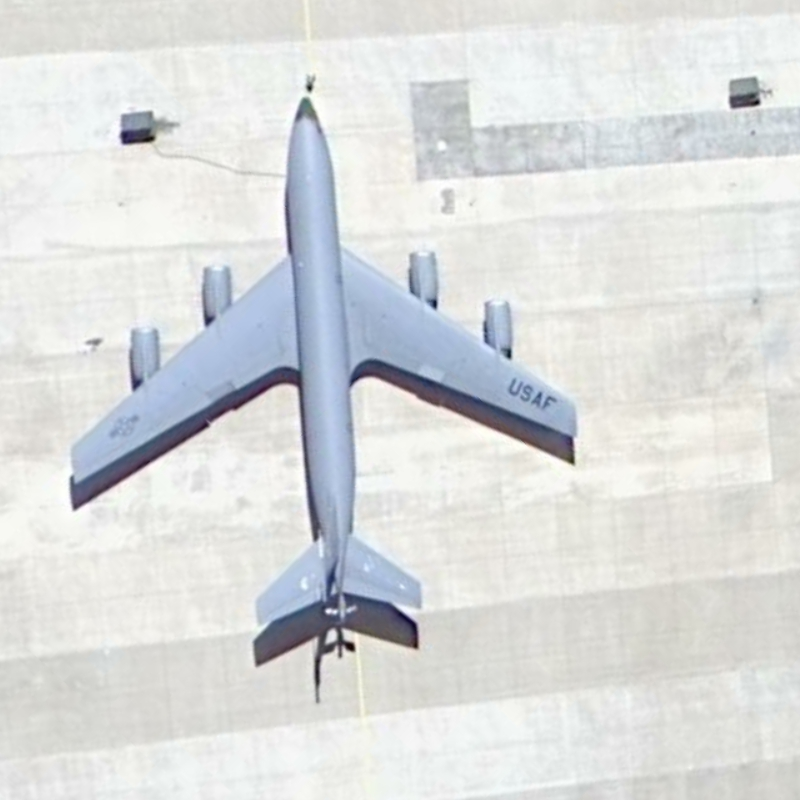A14: (65, 80, 585, 646)
